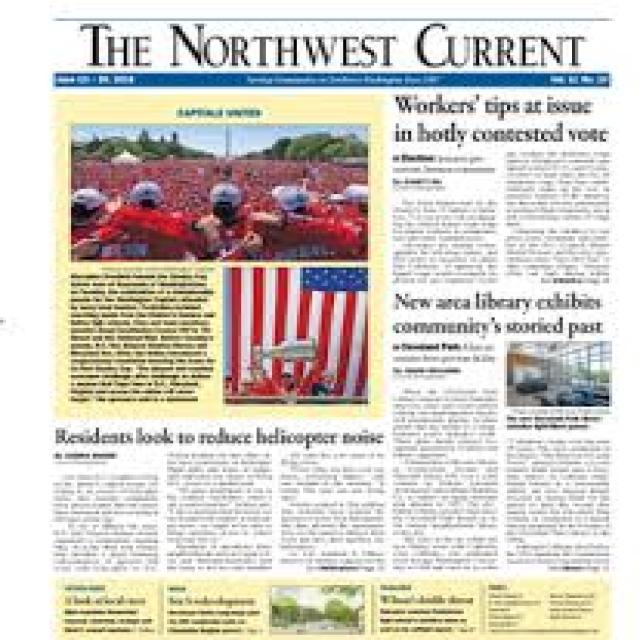paper: (55, 0, 618, 640)
